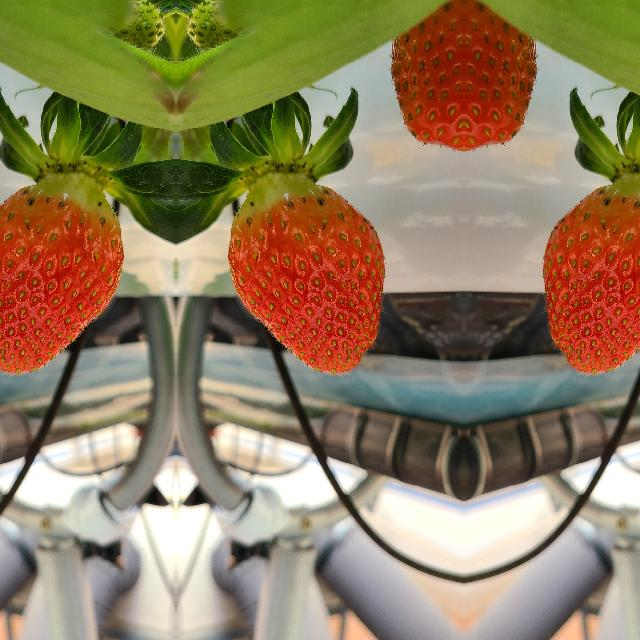Health_100: (226, 182, 384, 376), (0, 182, 124, 376), (541, 182, 640, 376), (388, 0, 460, 158), (466, 0, 538, 158)
